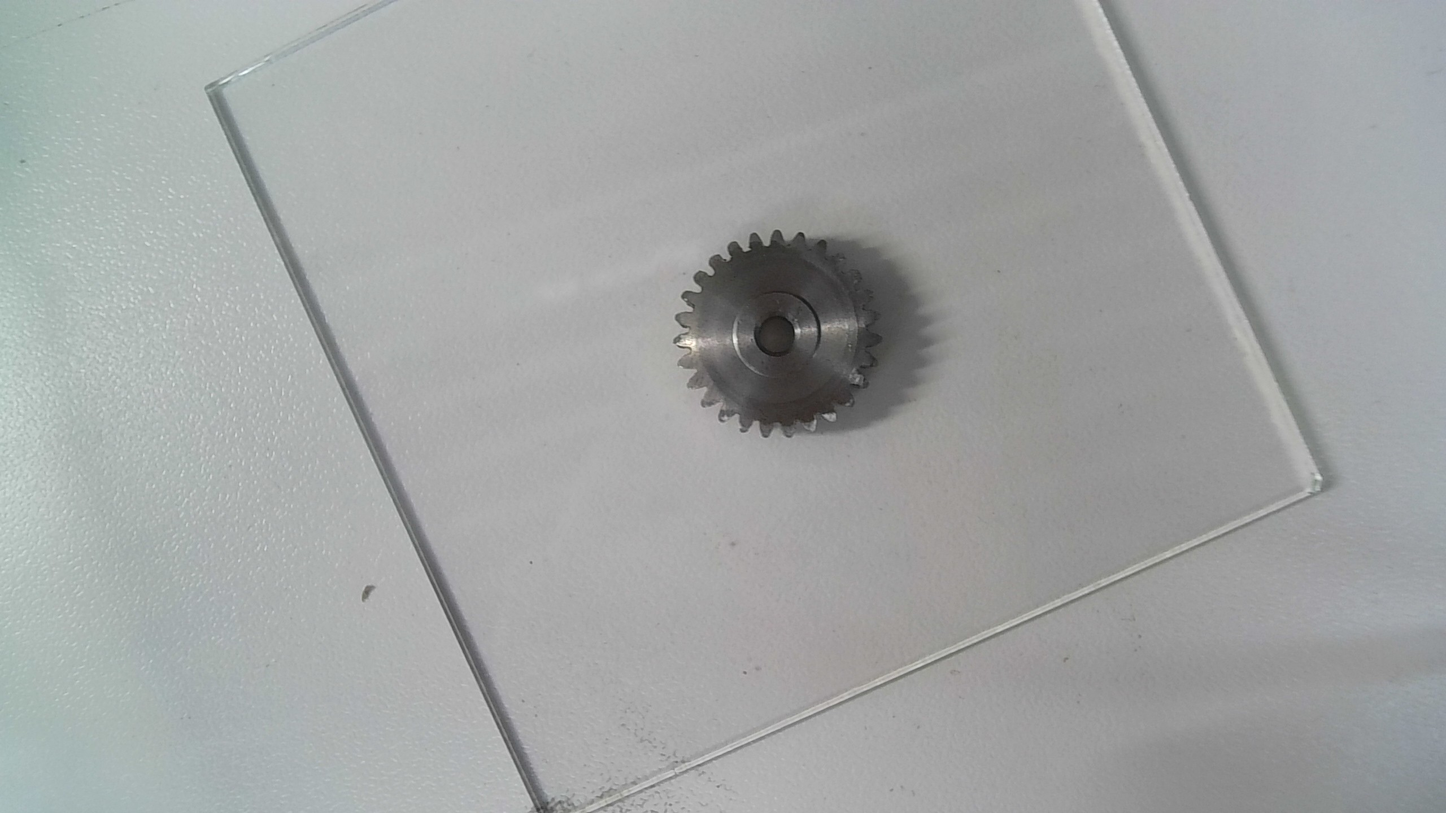gear: (672, 228, 885, 442)
